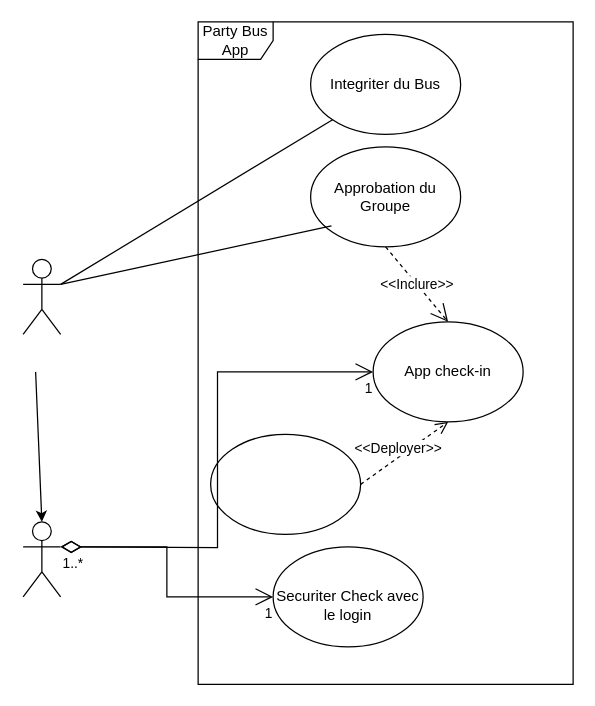
This 595x706 diagram has some shape labels left out. Here are the shapes that lost their labels. From the top down, the box of each, then its label:
(22, 258, 61, 334): Driver
(209, 433, 361, 534): Sac a dos et Baggages
(22, 521, 61, 597): Client
